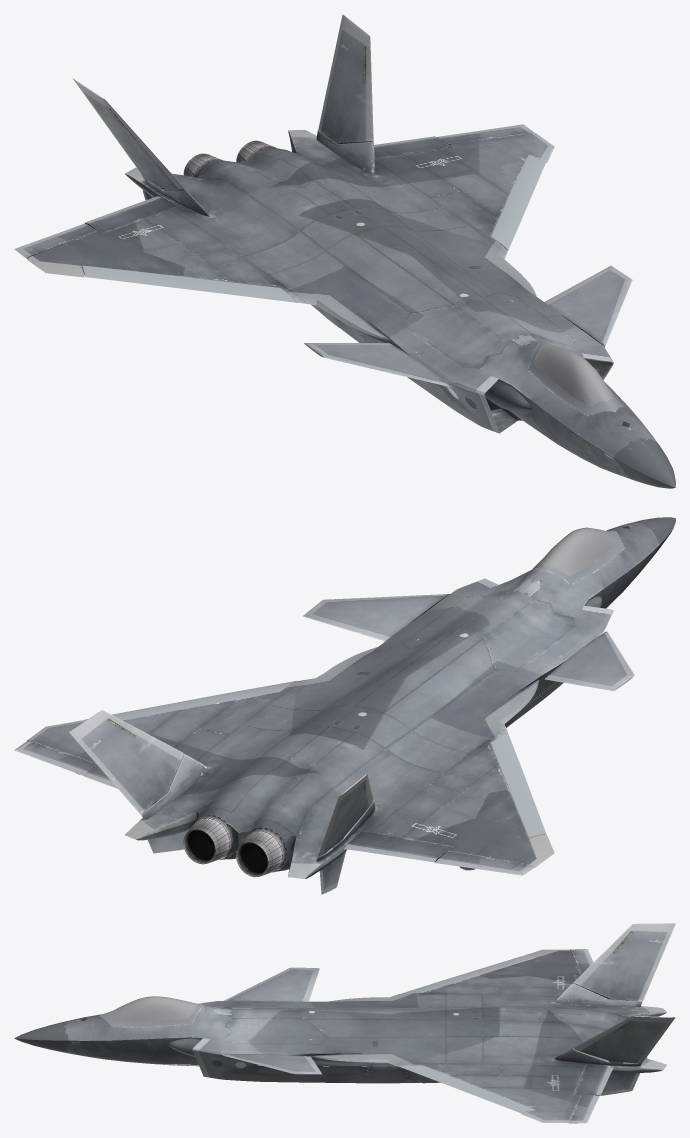
The picture shows the model from 3 angles, top to bottom: view 1: azimuth 30°, elevation 25°; view 2: azimuth 150°, elevation 25°; view 3: azimuth 270°, elevation 25°; orthographic projection. The views are drawn at different scales.
Parts seen in each view (by area): view 1: j20.003; view 2: j20.003; view 3: j20.003.
Boxes of the visible parts, left/top/right/bottom form: j20.003: left=14, top=14, right=675, bottom=488; j20.003: left=14, top=517, right=675, bottom=894; j20.003: left=14, top=923, right=675, bottom=1123.
Size of the model in its own units: 74 by 20.04 by 118.
1 material, 1 textured.
